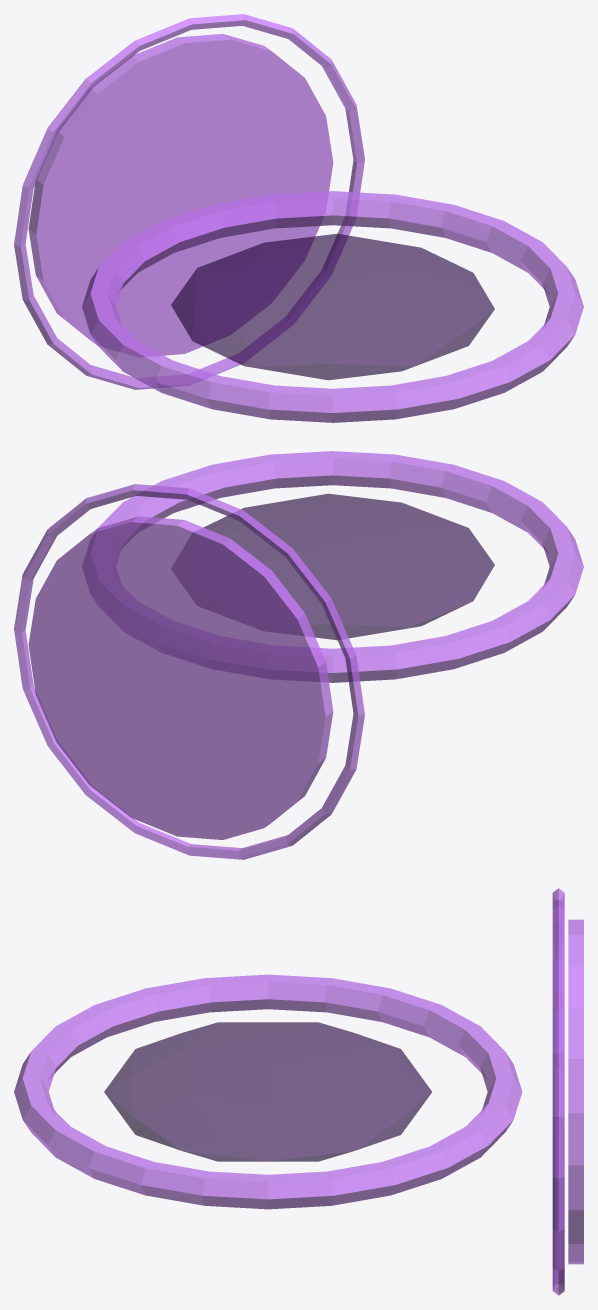
Rendered from 07_return_portal.glb.
The picture shows the model from 3 angles, top to bottom: view 1: azimuth 30°, elevation 25°; view 2: azimuth 150°, elevation 25°; view 3: azimuth 270°, elevation 25°; orthographic projection.
Parts seen in each view (by area): view 1: base_disc, portal_ring, portal_core, base_ring; view 2: base_disc, portal_ring, portal_core, base_ring; view 3: portal_ring, portal_core, base_disc, base_ring.
Boxes of the visible parts, box(x1,y1,x2,y2) form: base_disc: box(28, 34, 333, 356); portal_ring: box(82, 191, 583, 422); portal_core: box(171, 233, 494, 380); base_ring: box(14, 14, 364, 389); base_disc: box(28, 516, 333, 839); portal_ring: box(82, 451, 583, 682); portal_core: box(203, 493, 494, 640); base_ring: box(14, 484, 364, 859); portal_ring: box(14, 974, 522, 1209); portal_core: box(104, 1022, 431, 1161); base_disc: box(568, 919, 583, 1264); base_ring: box(552, 888, 564, 1295).
Size of the model in its own units: 1.61 by 1.3 by 1.8.
